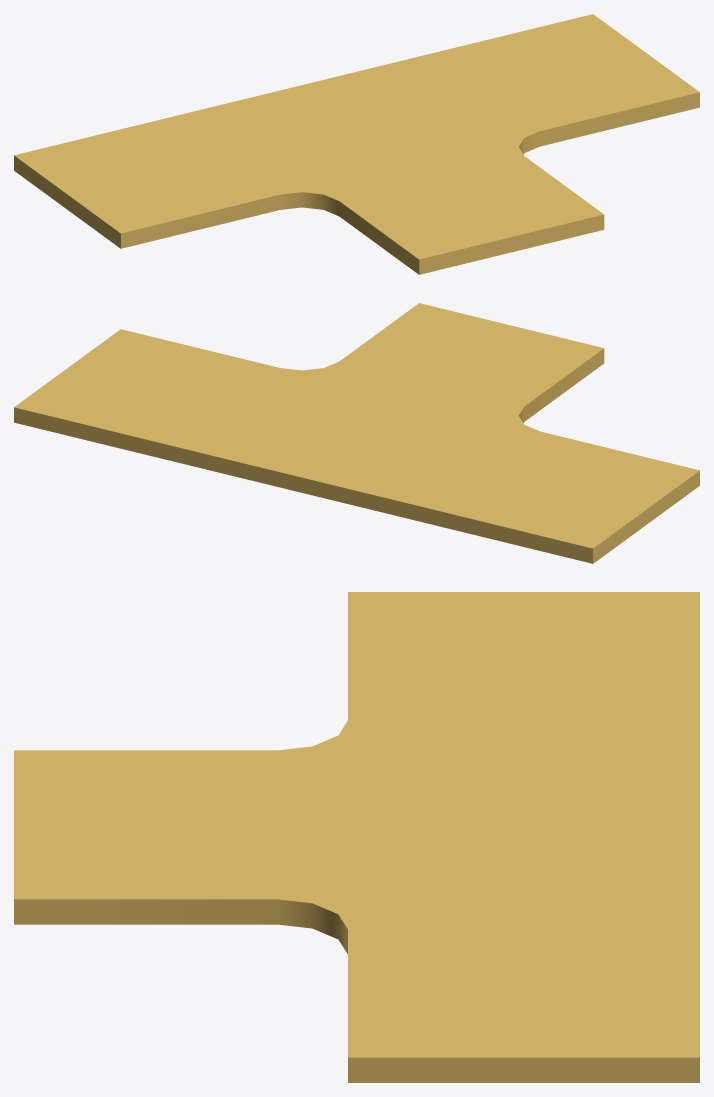
The picture shows the model from 3 angles, top to bottom: view 1: azimuth 30°, elevation 25°; view 2: azimuth 150°, elevation 25°; view 3: azimuth 270°, elevation 25°; orthographic projection. The views are drawn at different scales.
Parts seen in each view (by area): view 1: Cube.004; view 2: Cube.004; view 3: Cube.004.
Part boxes in pixels (bbox=[...]): Cube.004: bbox=[14, 14, 699, 274]; Cube.004: bbox=[14, 303, 699, 563]; Cube.004: bbox=[14, 592, 699, 1082].
Size of the model in its own units: 96.5 by 2.44 by 60.07.
